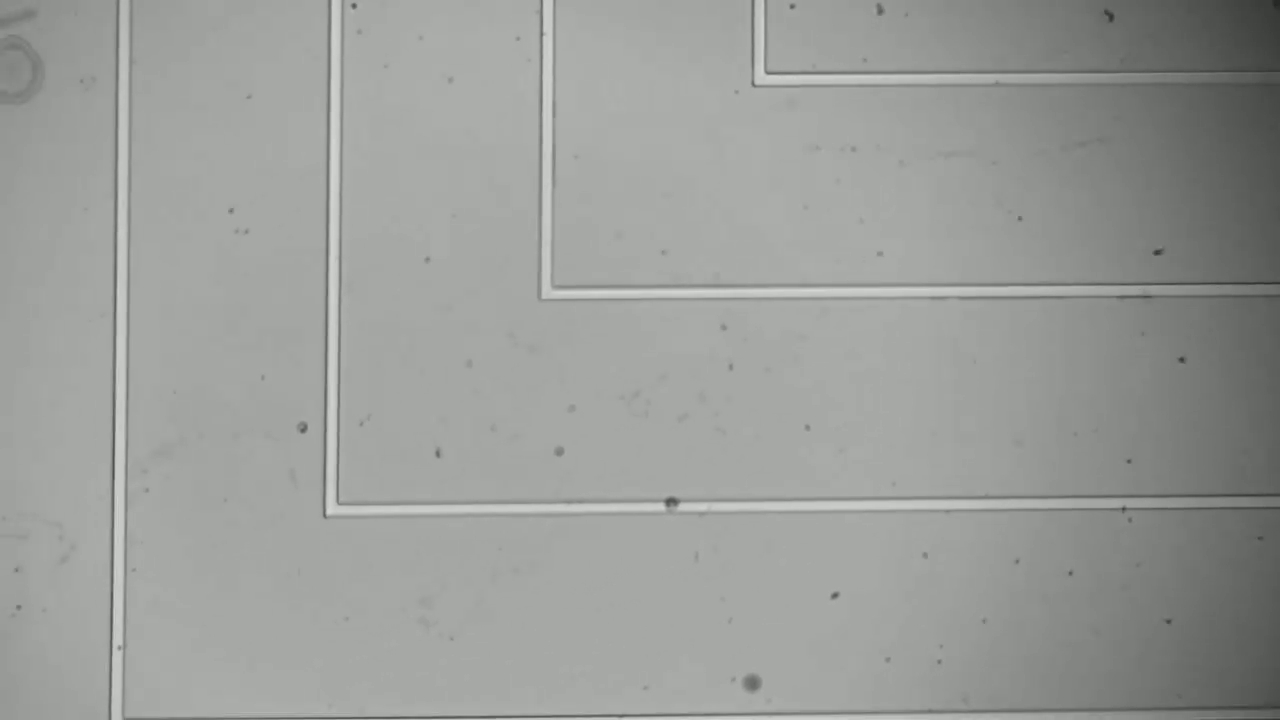stains_enbedded: (662, 492, 685, 523)
